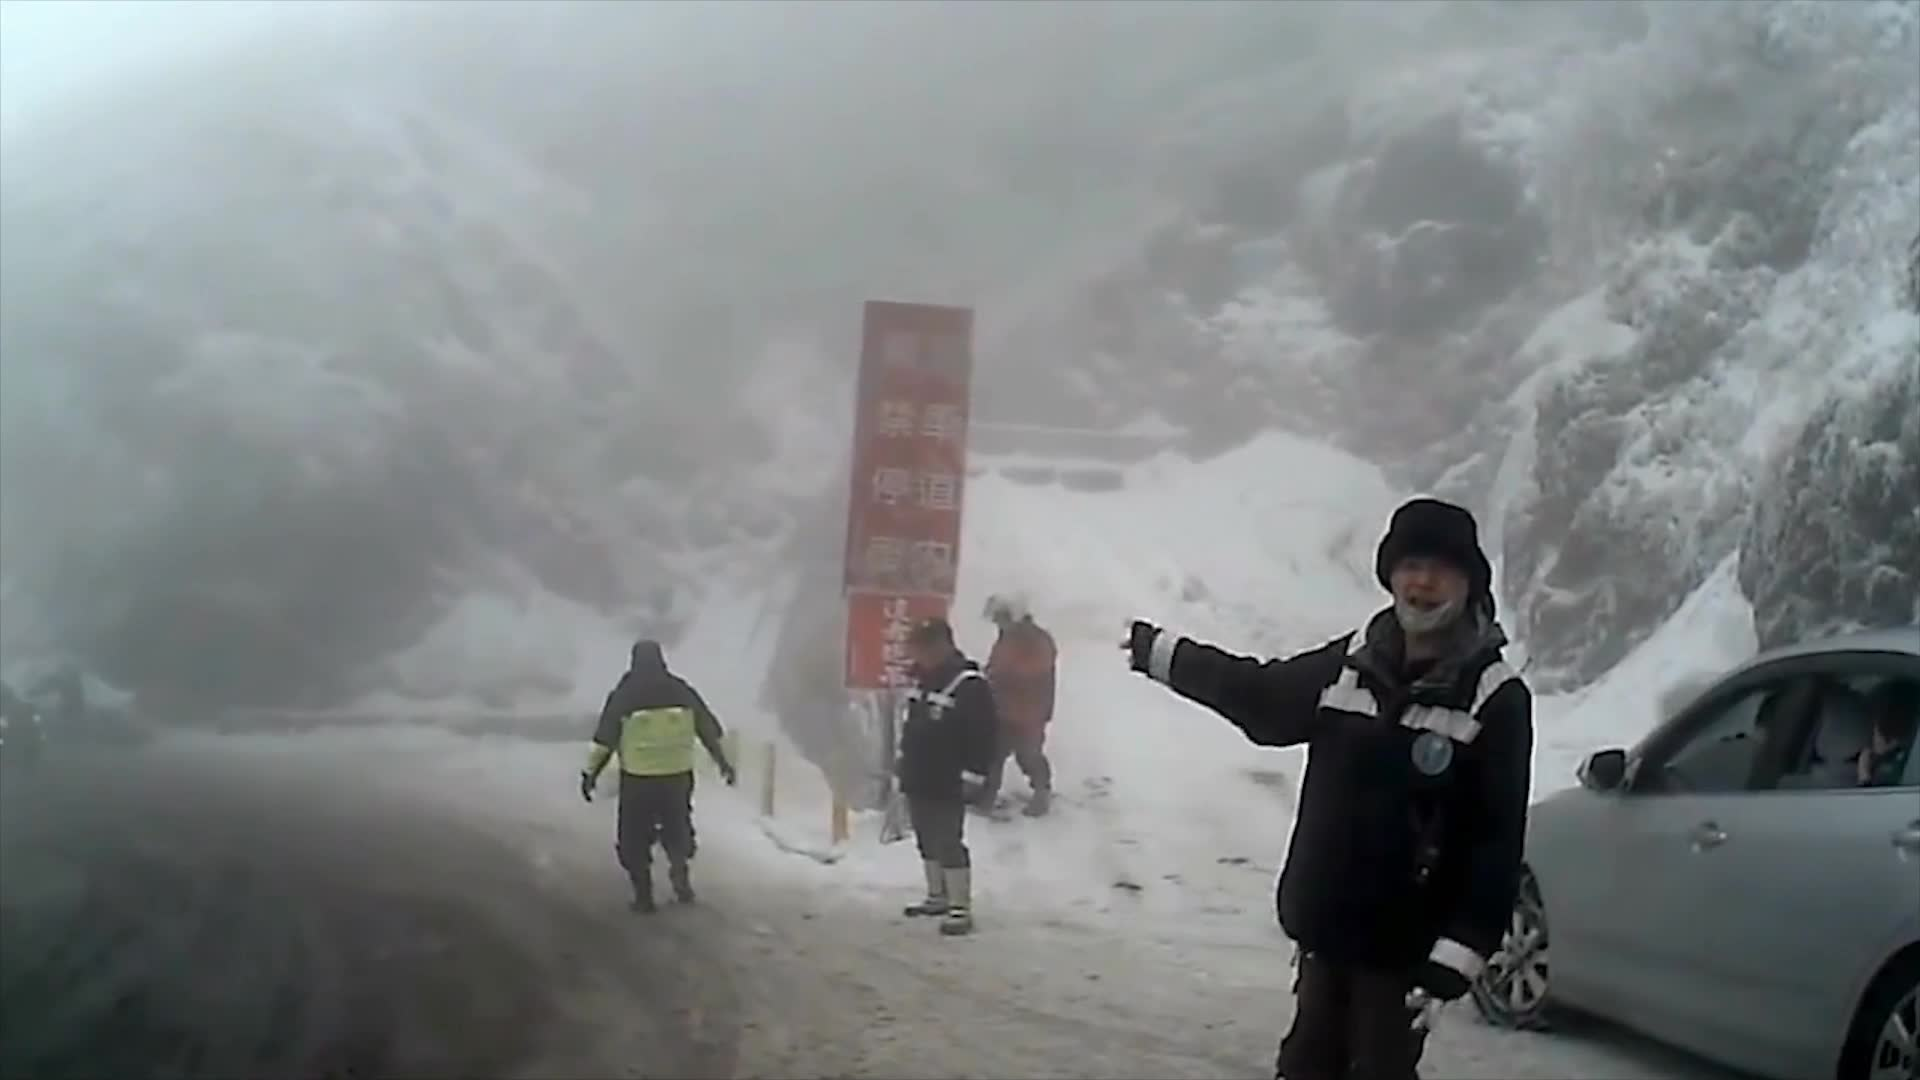pedestrian: (1124, 488, 1532, 1079), (588, 634, 730, 909), (899, 613, 1005, 935), (983, 583, 1073, 816)
vehicle: (1447, 626, 1918, 1078)
